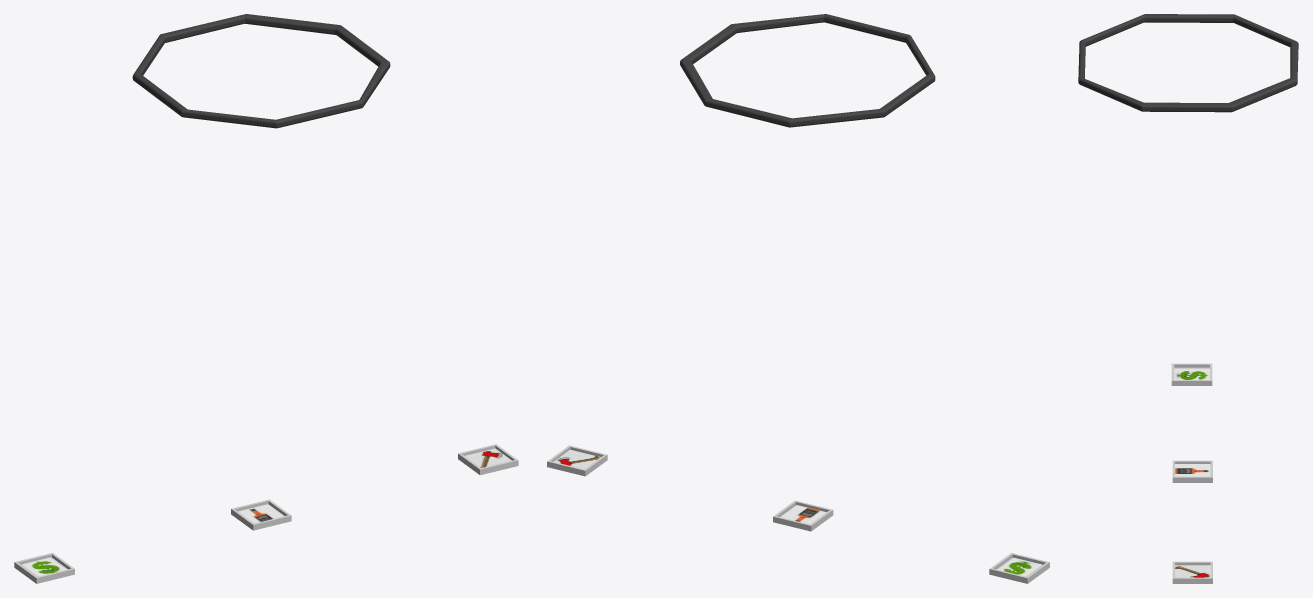
File: Myoctagon2.dae
3 views of the same model, side by side, from view 1: azimuth 30°, elevation 25°; view 2: azimuth 150°, elevation 25°; view 3: azimuth 270°, elevation 25° (orthographic). The views are drawn at different scales.
Parts seen in each view (by area): view 1: Myoctagonfinal, mesa, mesa.001, mesa.002; view 2: Myoctagonfinal, mesa, mesa.001, mesa.002; view 3: Myoctagonfinal, mesa, mesa.002, mesa.001, hacha, bottletest, dollar.
Part boxes in pixels (left/top/right/bottom): Myoctagonfinal: left=132, top=14, right=390, bottom=128; mesa: left=14, top=552, right=74, bottom=583; mesa.001: left=231, top=499, right=291, bottom=530; mesa.002: left=458, top=444, right=518, bottom=475; Myoctagonfinal: left=680, top=14, right=935, bottom=127; mesa: left=989, top=553, right=1049, bottom=583; mesa.001: left=773, top=500, right=833, bottom=531; mesa.002: left=547, top=445, right=607, bottom=476; Myoctagonfinal: left=1078, top=14, right=1298, bottom=112; mesa: left=1171, top=363, right=1212, bottom=385; mesa.002: left=1172, top=561, right=1212, bottom=583; mesa.001: left=1172, top=460, right=1212, bottom=482; hacha: left=1175, top=565, right=1210, bottom=577; bottletest: left=1175, top=464, right=1210, bottom=476; dollar: left=1174, top=369, right=1209, bottom=379.
Bounding box in the file's own units: 6.27 × 2.71 × 5.62.
